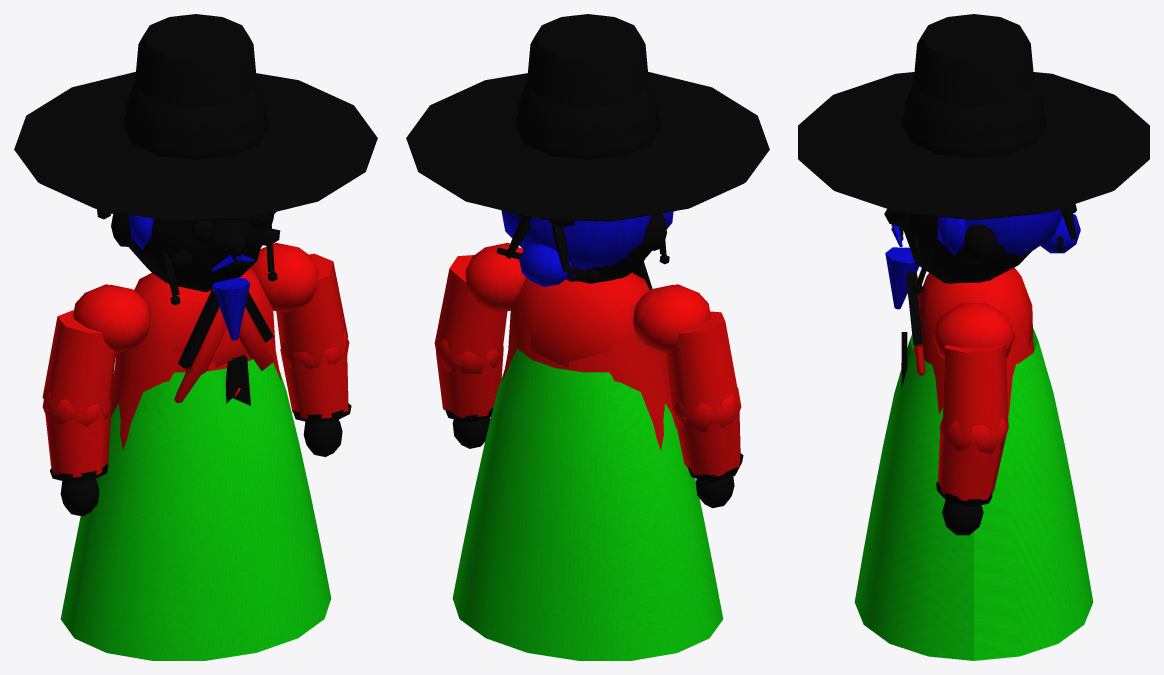
The model's file is ffolk.glb.
3 views of the same model, side by side, from view 1: azimuth 30°, elevation 25°; view 2: azimuth 150°, elevation 25°; view 3: azimuth 270°, elevation 25° (orthographic).
Parts seen in each view (by area): view 1: folk_body_f, hat_gat, hat_guard, folk_body, folk_armL, folk_armR, folk_head, folk_beard; view 2: folk_body_f, hat_gat, hat_guard, folk_body, folk_armL, folk_armR, hat_bun, folk_head, hat_scarf; view 3: folk_body_f, hat_gat, hat_guard, folk_armR, folk_head, folk_body, hat_bun, folk_beard.
Boxes of the visible parts, left/top/right/bottom form: folk_body_f: left=60, top=249, right=331, bottom=660; hat_gat: left=14, top=14, right=377, bottom=305; hat_guard: left=74, top=82, right=317, bottom=189; folk_body: left=73, top=242, right=318, bottom=450; folk_armL: left=42, top=310, right=115, bottom=516; folk_armR: left=276, top=253, right=351, bottom=456; folk_head: left=111, top=211, right=280, bottom=292; folk_beard: left=211, top=254, right=254, bottom=340; folk_body_f: left=452, top=251, right=723, bottom=660; hat_gat: left=406, top=14, right=769, bottom=264; hat_guard: left=466, top=82, right=709, bottom=189; folk_body: left=465, top=242, right=710, bottom=450; folk_armL: left=666, top=311, right=743, bottom=508; folk_armR: left=434, top=255, right=507, bottom=448; hat_bun: left=496, top=210, right=651, bottom=286; folk_head: left=566, top=211, right=673, bottom=283; hat_scarf: left=505, top=213, right=574, bottom=271; folk_body_f: left=854, top=267, right=1093, bottom=660; hat_gat: left=798, top=14, right=1149, bottom=293; hat_guard: left=856, top=81, right=1091, bottom=187; folk_armR: left=936, top=344, right=1008, bottom=535; folk_head: left=884, top=209, right=1031, bottom=283; folk_body: left=901, top=272, right=1034, bottom=414; hat_bun: left=964, top=209, right=1080, bottom=255; folk_beard: left=885, top=224, right=919, bottom=309.
Size of the model in its own units: 1.3 by 2.34 by 1.27.
1 material, 1 textured.
